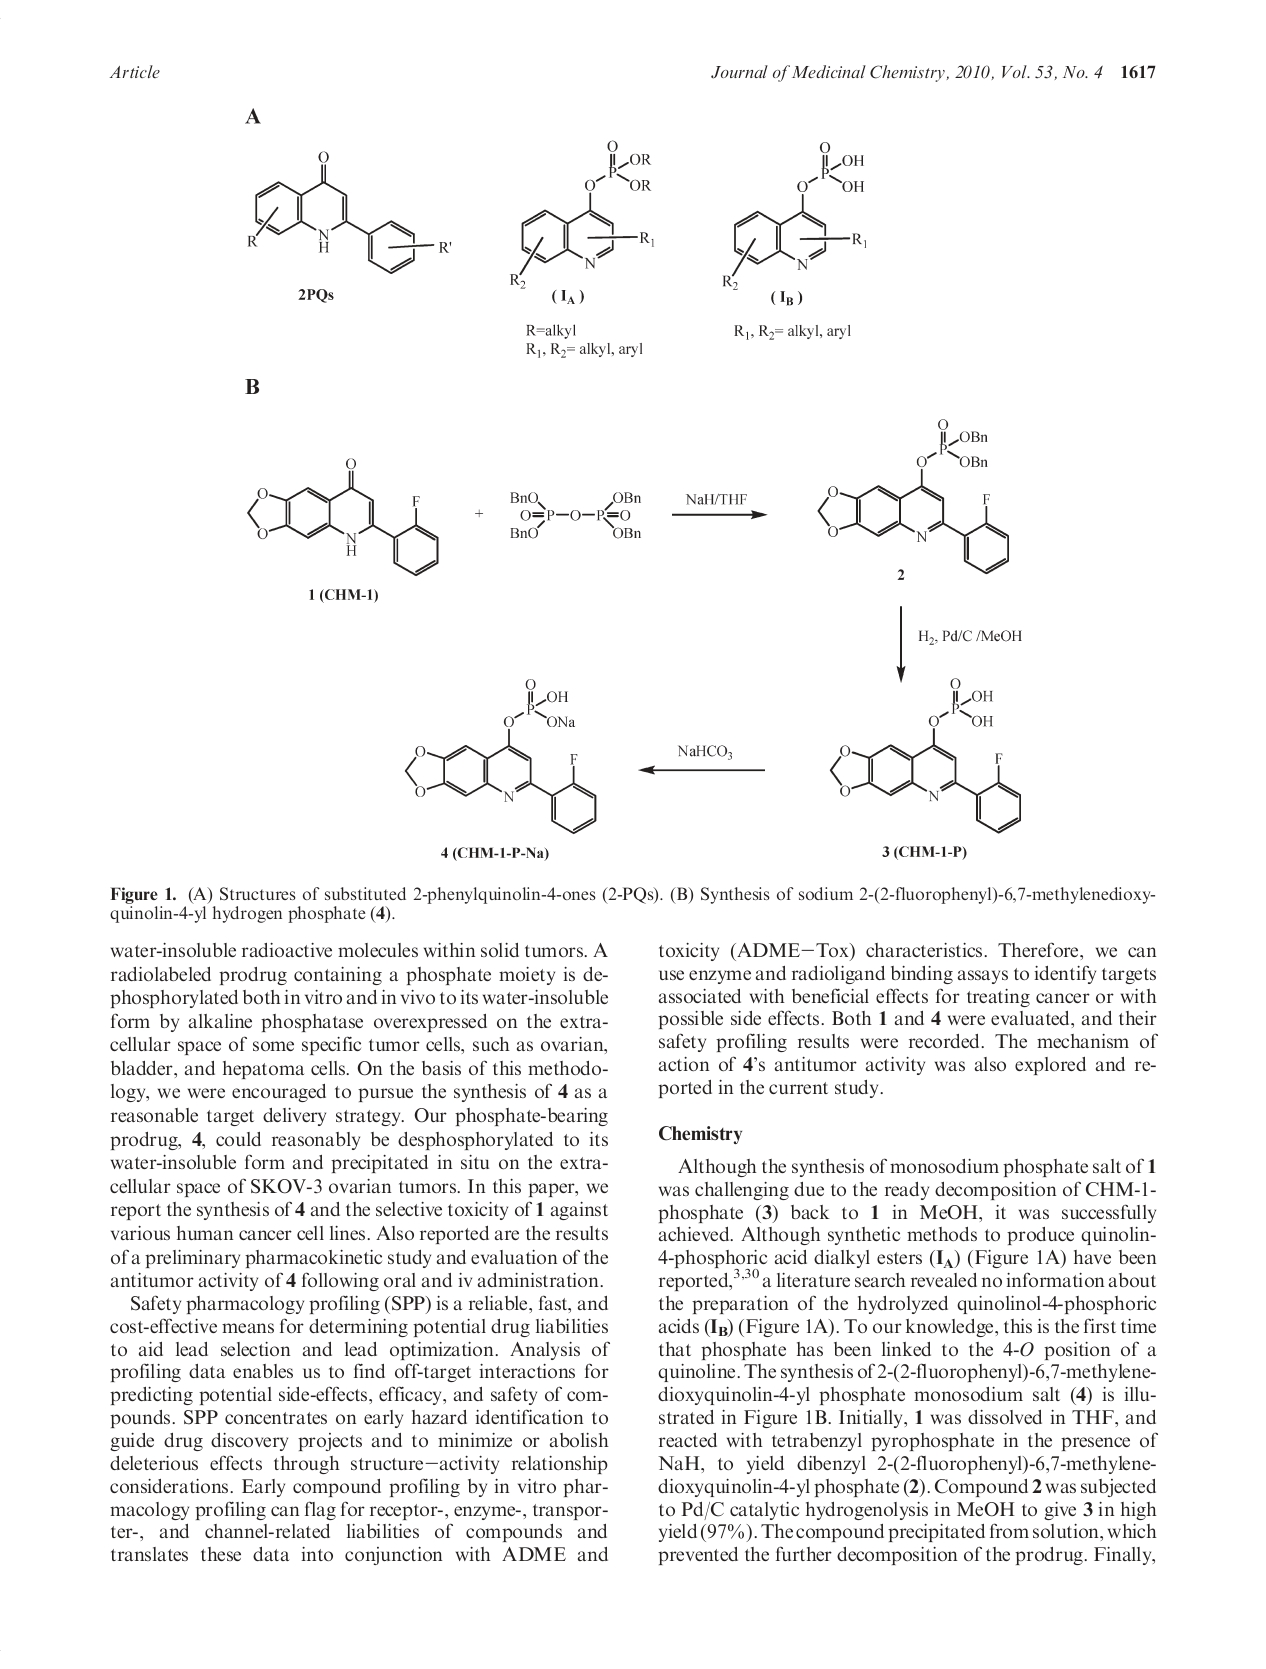exist_molecular: (402, 678, 598, 836), (817, 416, 1012, 573), (827, 678, 1023, 834), (243, 149, 453, 275), (247, 456, 442, 578), (505, 138, 658, 290), (719, 141, 870, 293), (507, 489, 645, 541)
